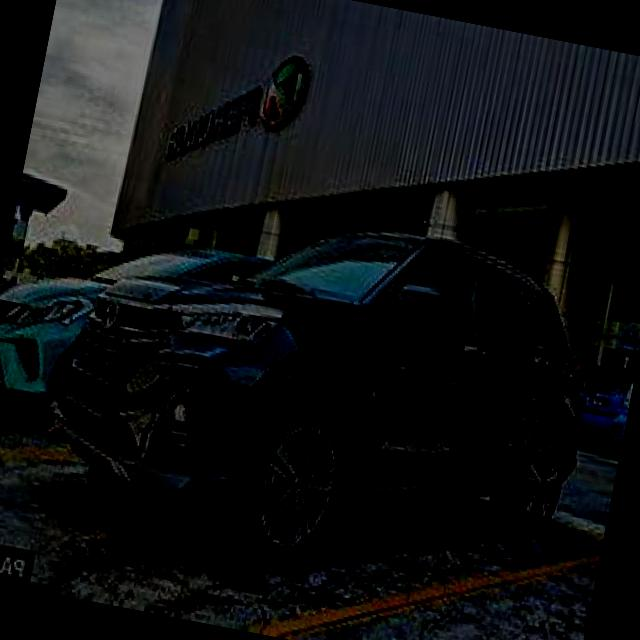PeroduaAtiva: (34, 168, 616, 611)
